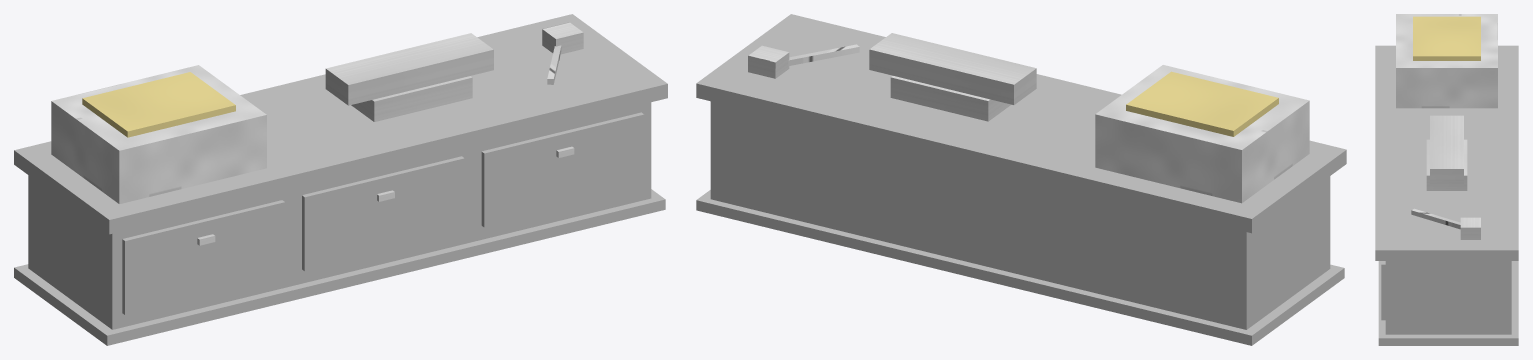
Rendered from bench_electric_smithy.obj.
The picture shows the model from 3 angles, left to right: view 1: azimuth 30°, elevation 25°; view 2: azimuth 150°, elevation 25°; view 3: azimuth 270°, elevation 25°; orthographic projection. The views are drawn at different scales.
Visible parts, largest first — view 1: bench_electric_smithy; view 2: bench_electric_smithy; view 3: bench_electric_smithy.
Boxes of the visible parts, x1,y1,x2,y2 form: bench_electric_smithy: (14, 14, 667, 345); bench_electric_smithy: (696, 14, 1346, 345); bench_electric_smithy: (1375, 14, 1518, 345).
Bounding box in the file's own units: 2.84 × 0.91 × 0.84.
